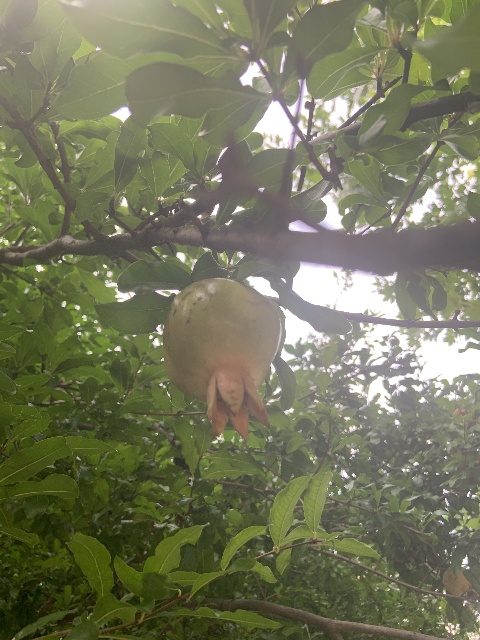mid-growth: (161, 277, 283, 440)
